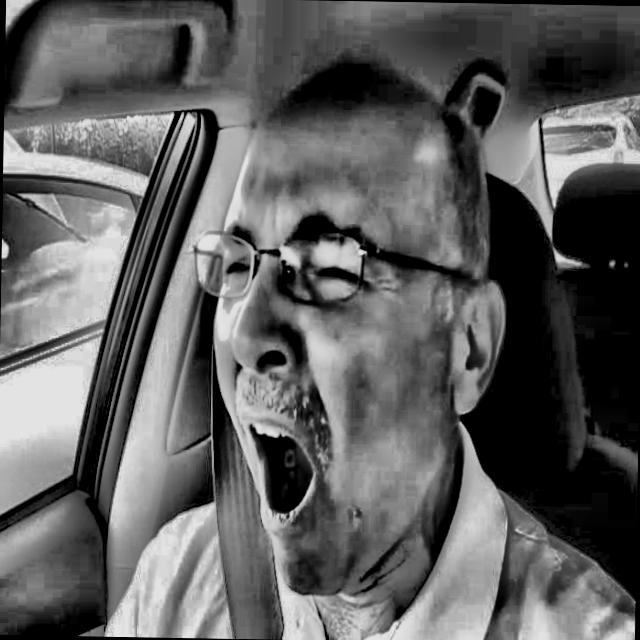closed_eyes: (290, 249, 376, 307), (198, 242, 260, 297)
open_mouth: (217, 385, 343, 559)
